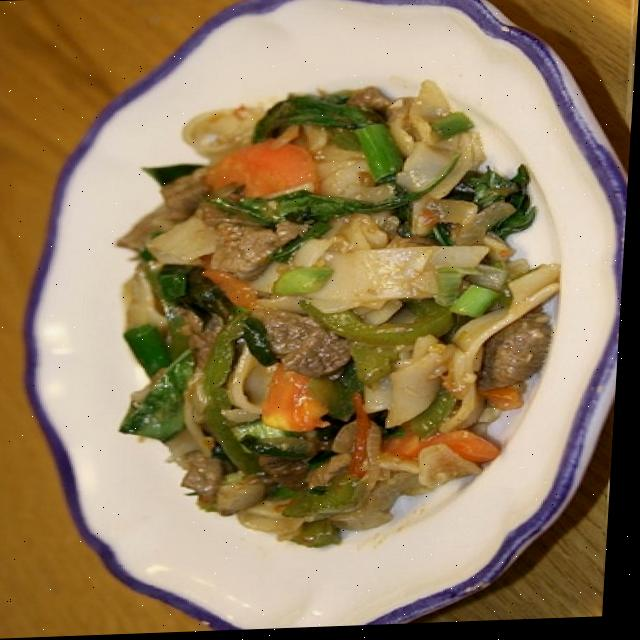牛肉菜式: (44, 30, 599, 595)
